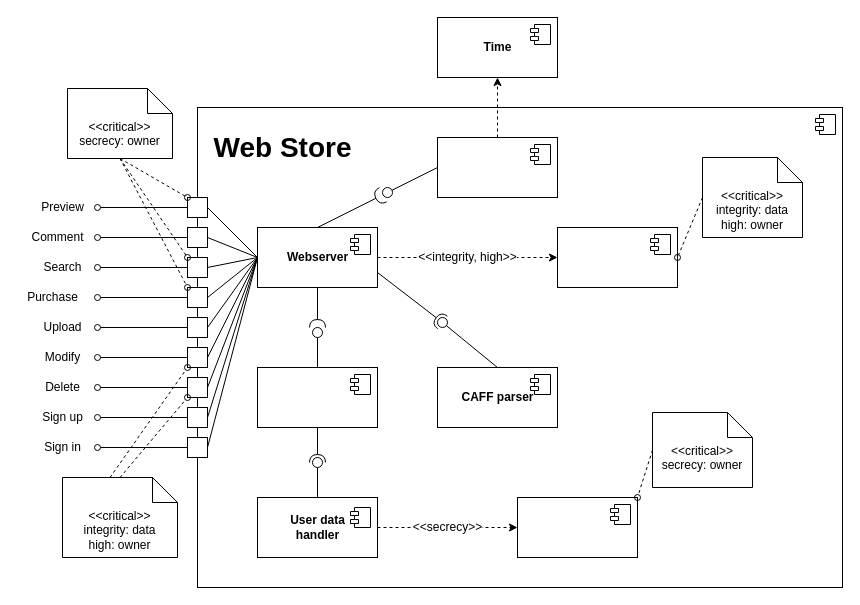
This 860x605 diagram has some shape labels left out. Each missing label, with the box of its shape:
<<critical>> Database: (556, 226, 678, 288)
<<critical>> User data: (516, 496, 638, 558)
Authentication: (256, 366, 378, 428)
Authorization: (436, 136, 558, 198)
